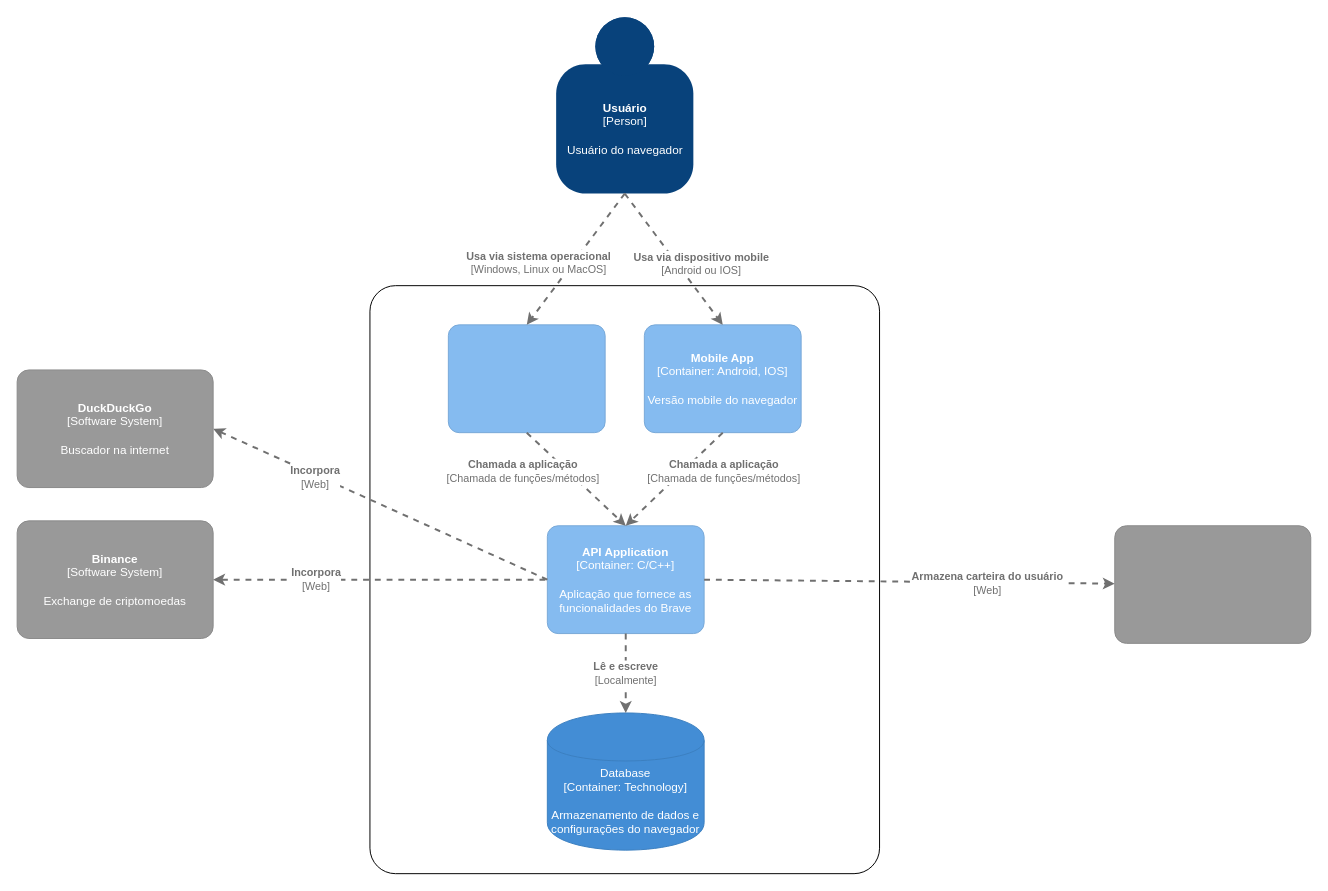
Image size: 1328x891. Some labels were removed from this diagram. The box of each missing label's shape, as (x1, y1, x2, y2) in pixels:
Brave Browser [Software System]: (369, 285, 880, 874)
Desktop App [Container: Windows, Linux, MacOS] Versão desktop do navegador: (447, 324, 605, 433)
Uphold [Software System] Sistema de serviços financeiros via internet: (1114, 525, 1311, 643)
